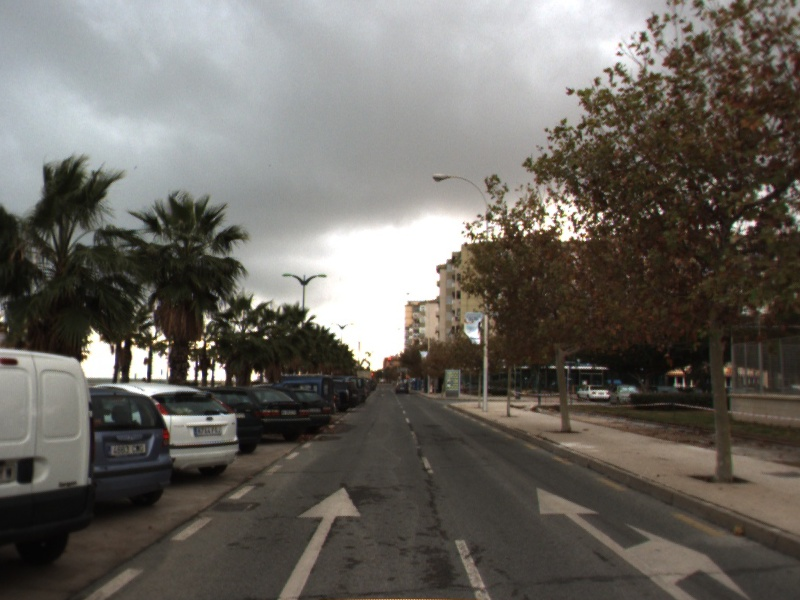STRAIGHT: (276, 484, 364, 600)
STRAIGHT_RIGHT: (535, 485, 752, 600)
